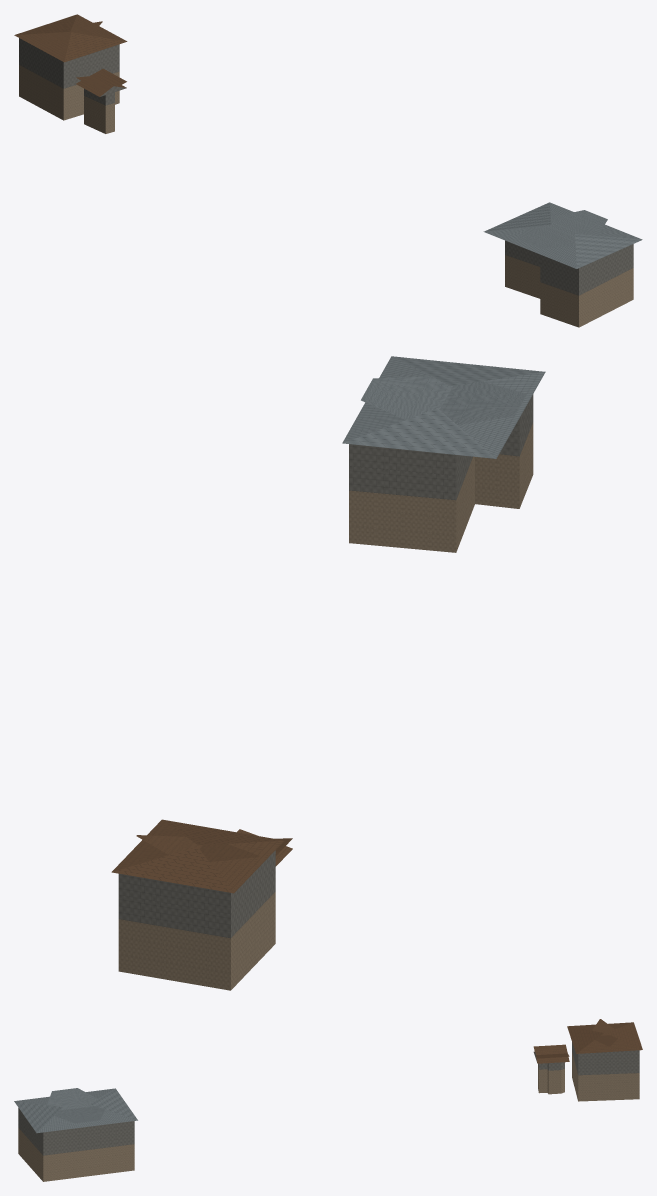
The model's file is bld_c32_45_242.gltf.
The picture shows the model from 3 angles, top to bottom: view 1: azimuth 30°, elevation 25°; view 2: azimuth 150°, elevation 25°; view 3: azimuth 270°, elevation 25°; orthographic projection. The views are drawn at different scales.
Visible parts, largest first — view 1: bld_c32_45_242; view 2: bld_c32_45_242; view 3: bld_c32_45_242.
Boxes of the visible parts, x1,y1,x2,y2 form: bld_c32_45_242: (14, 14, 642, 327); bld_c32_45_242: (111, 356, 545, 990); bld_c32_45_242: (14, 1019, 642, 1181).
Bounding box in the file's own units: 43.97 × 11.4 × 109.
5 materials, 5 textured.
